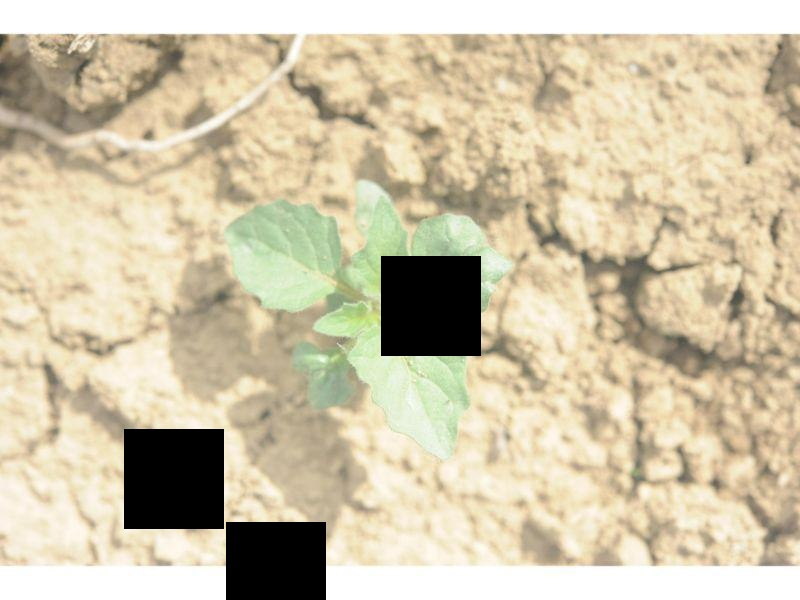nightshade: (226, 179, 508, 465)
